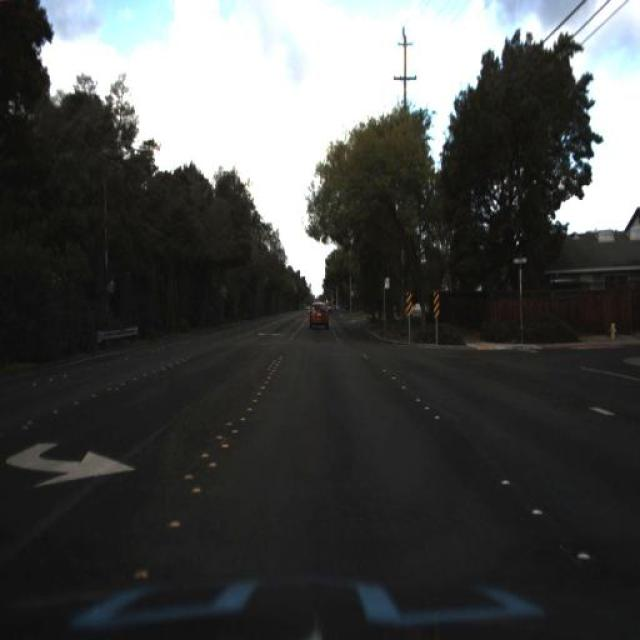car: (305, 290, 331, 335)
